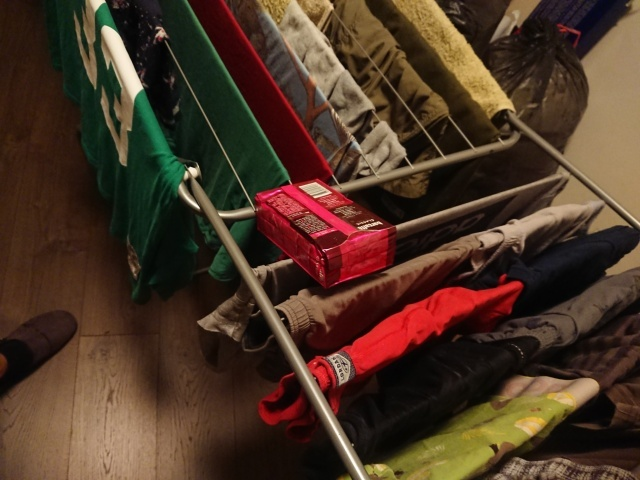Barcaffe Classic Original 225g: (251, 176, 399, 293)
